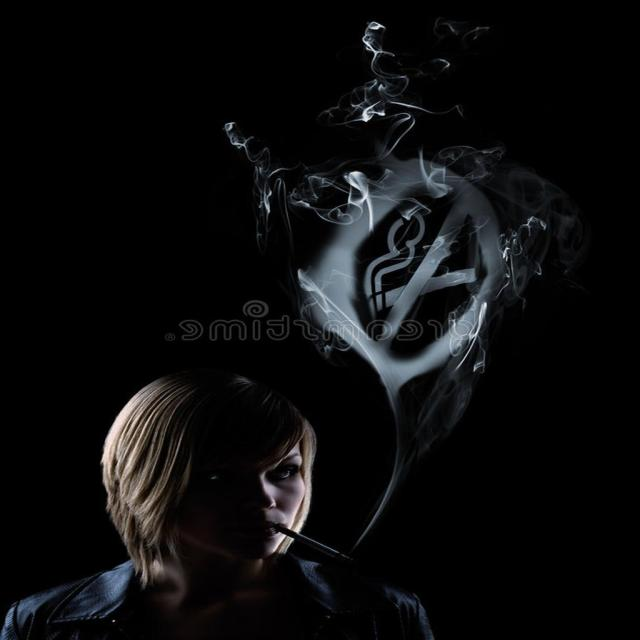smoking: (148, 54, 511, 602)
